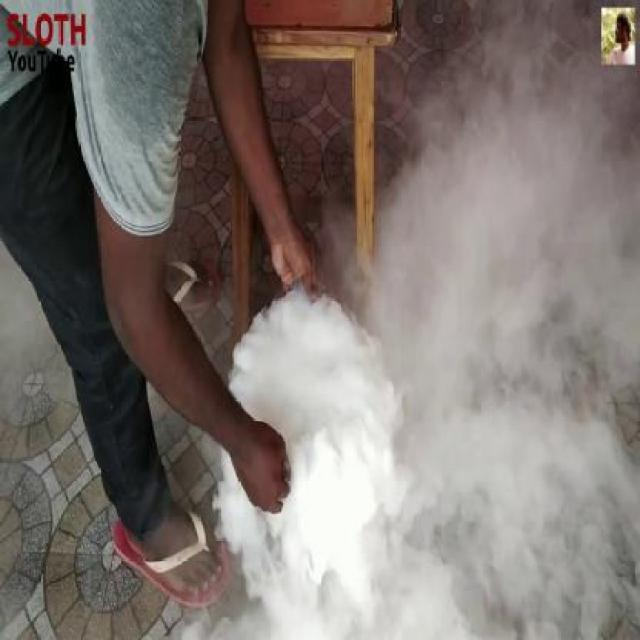smoke: (238, 249, 520, 614)
